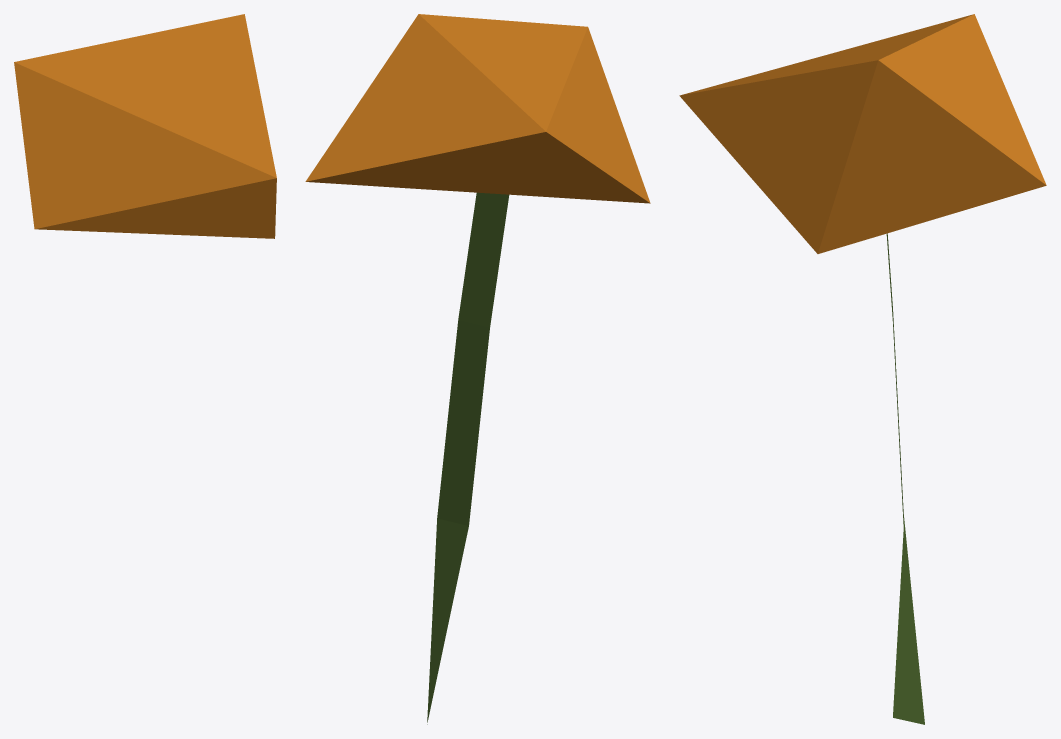
The model's file is Flower_C.glb.
3 renders of one model, left to right at view 1: azimuth 30°, elevation 25°; view 2: azimuth 150°, elevation 25°; view 3: azimuth 270°, elevation 25°, orthographic. The views are drawn at different scales.
Parts seen in each view (by area): view 1: Flower_C_LOD0; view 2: Flower_C_LOD0; view 3: Flower_C_LOD0.
Boxes of the visible parts, x1,y1,x2,y2 form: Flower_C_LOD0: (14, 14, 276, 238); Flower_C_LOD0: (305, 14, 650, 724); Flower_C_LOD0: (679, 14, 1046, 724).
Size of what is drawn, in the model's own units: 0.0797 by 0.2117 by 0.1037.
